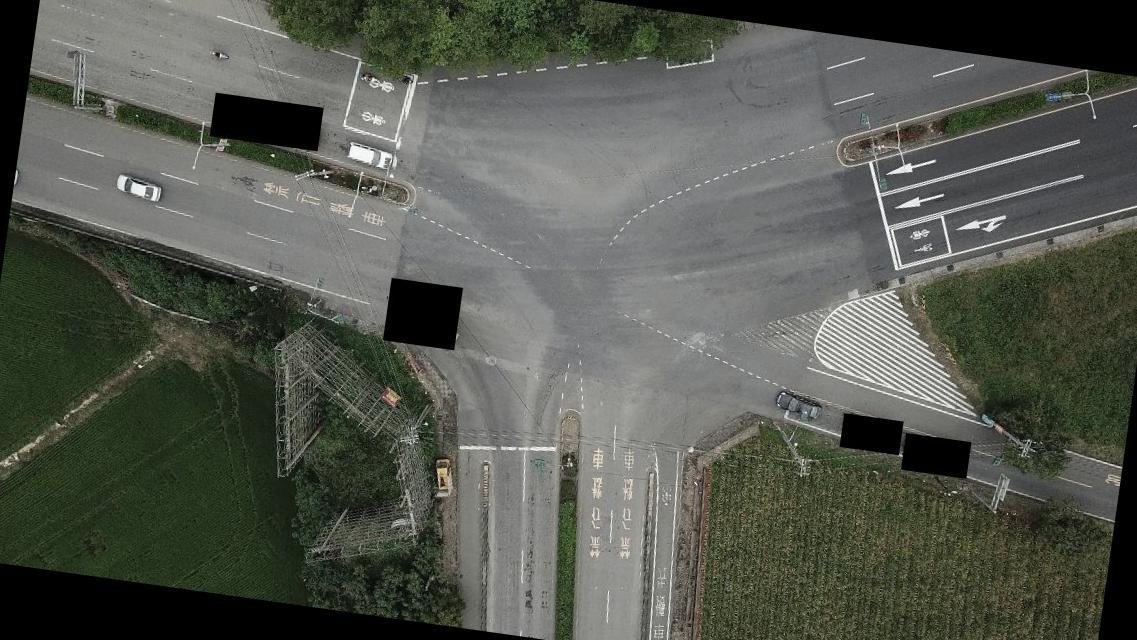vehicle: (113, 172, 164, 204), (343, 138, 394, 170), (773, 390, 822, 420), (430, 456, 455, 492)
